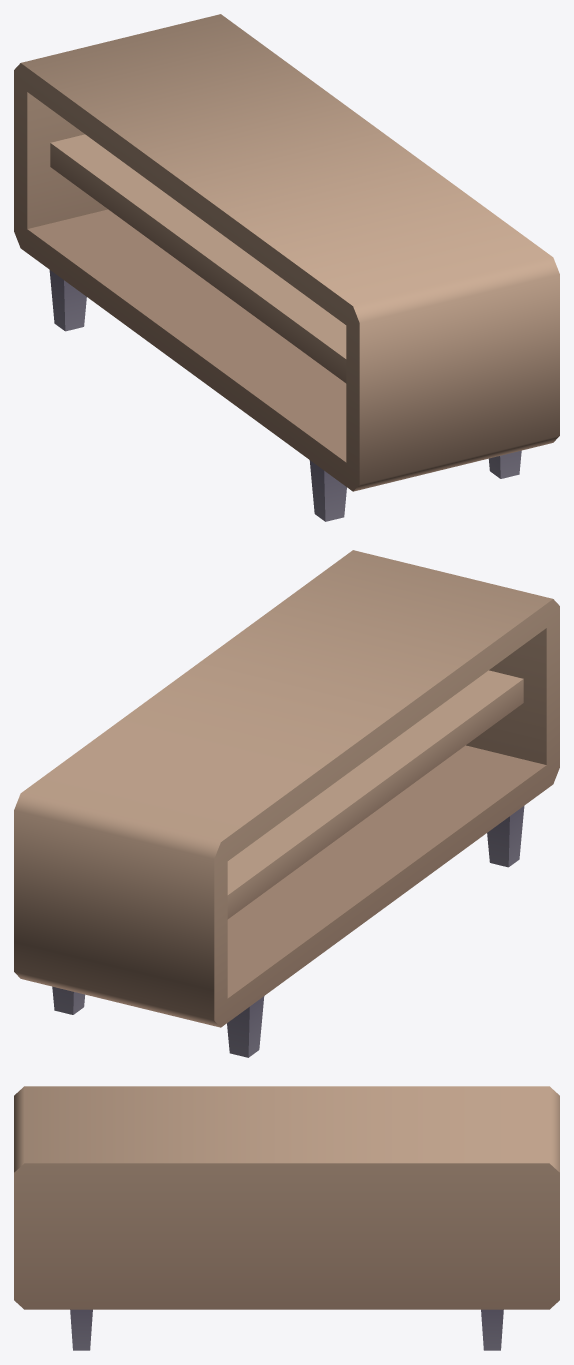
Rendered from tv-cabinet-open-small.glb.
3 renders of one model, top to bottom at view 1: azimuth 30°, elevation 25°; view 2: azimuth 150°, elevation 25°; view 3: azimuth 270°, elevation 25°, orthographic. The views are drawn at different scales.
Parts seen in each view (by area): view 1: tv-cabinet-open-small; view 2: tv-cabinet-open-small; view 3: tv-cabinet-open-small.
Part boxes in pixels (bbox=[...]): tv-cabinet-open-small: bbox=[14, 14, 559, 521]; tv-cabinet-open-small: bbox=[14, 550, 559, 1057]; tv-cabinet-open-small: bbox=[14, 1086, 559, 1350].
Bounding box in the file's own units: 0.4 × 0.456 × 1.2.
